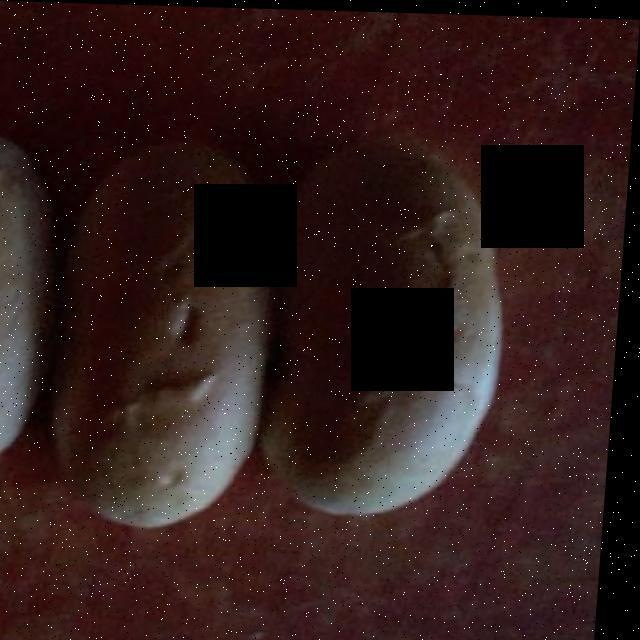potatoes: (52, 131, 506, 524)
